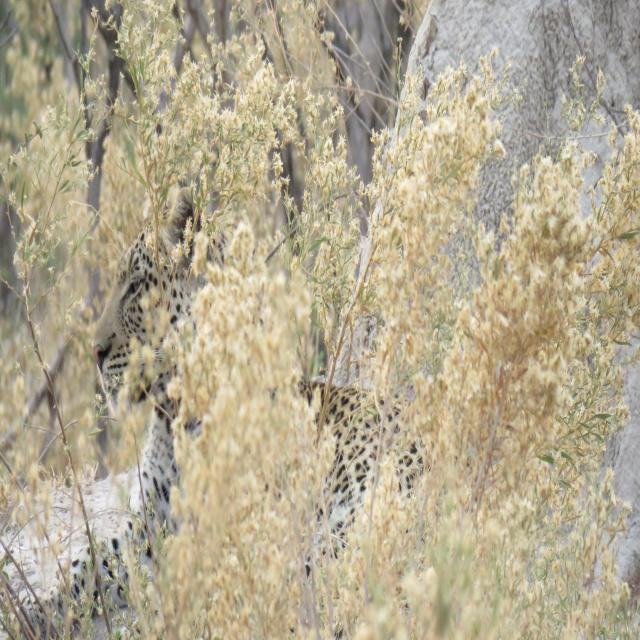Leopard: (10, 217, 449, 640)
